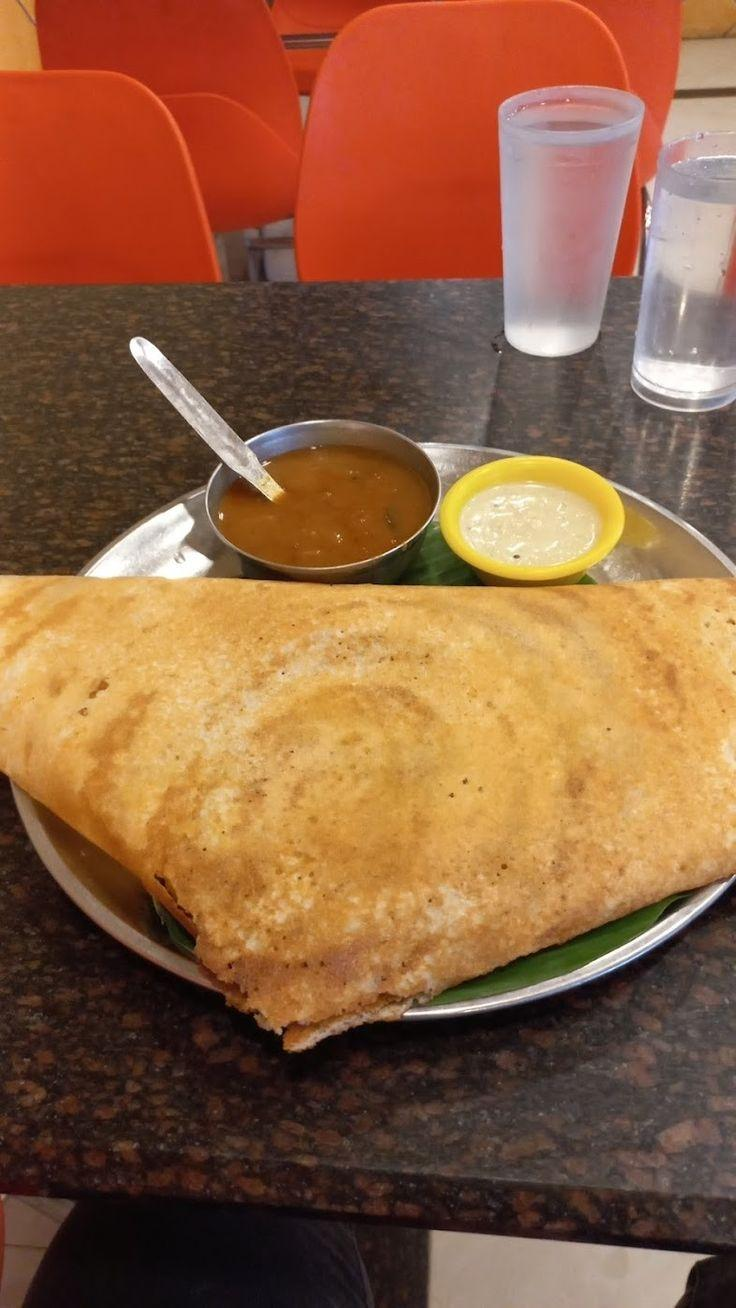dosa: (0, 566, 736, 1036)
